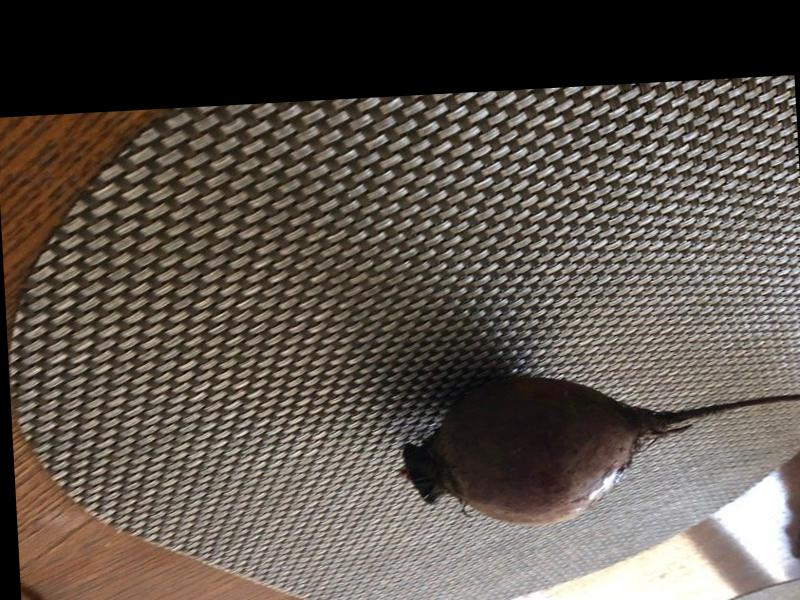Beet: (398, 364, 800, 530)
